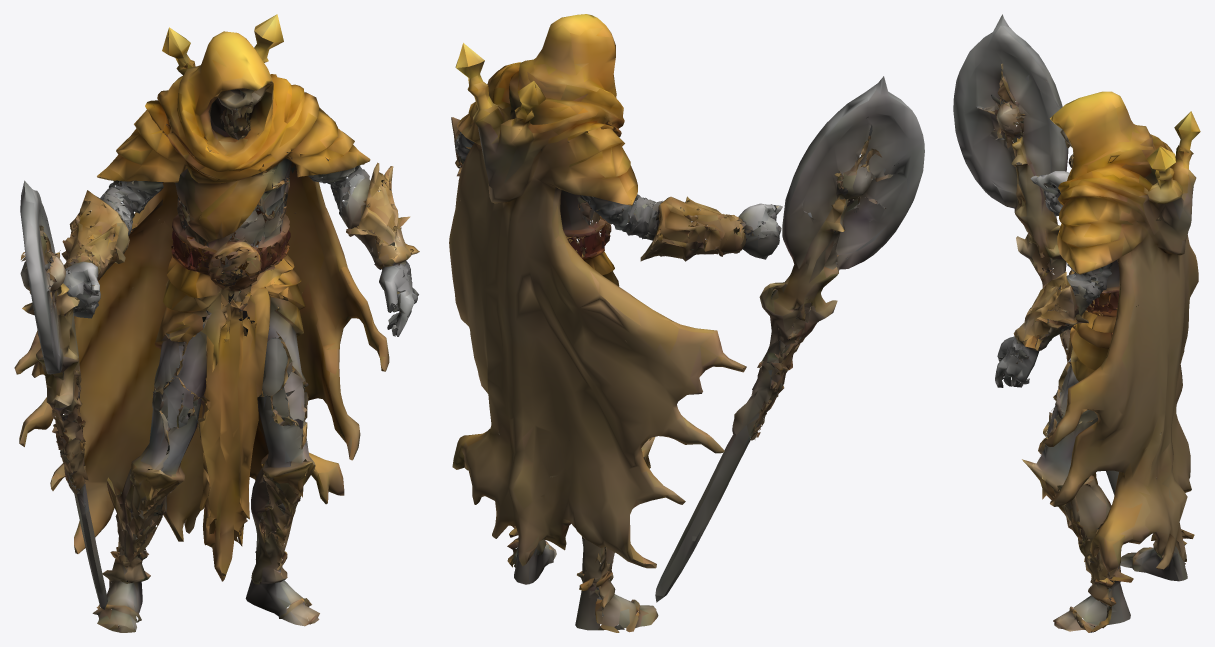
Rendered from fig_grave_husk.glb.
3 views of the same model, side by side, from view 1: azimuth 30°, elevation 25°; view 2: azimuth 150°, elevation 25°; view 3: azimuth 270°, elevation 25° (orthographic). The views are drawn at different scales.
Visible parts, largest first — view 1: fig_grave_husk; view 2: fig_grave_husk; view 3: fig_grave_husk.
Part boxes in pixels (x1=…): fig_grave_husk: x1=14, y1=14, x2=419, y2=632; fig_grave_husk: x1=449, y1=14, x2=924, y2=632; fig_grave_husk: x1=953, y1=14, x2=1200, y2=632.
Size of the model in its own units: 0.7175 by 0.9335 by 0.4109.
Materials: 1 (1 with a texture image).
